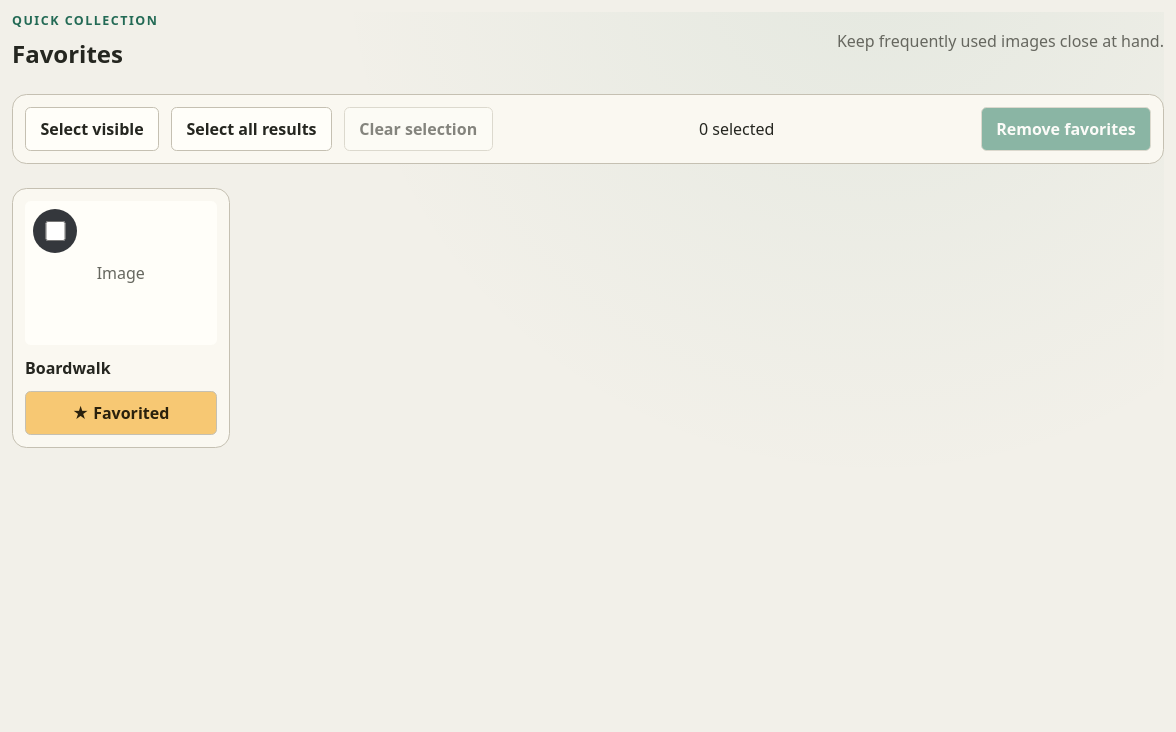
curation favorites › loads every result for select all and reports bulk outcomes per item
Expected: the heading "Boardwalk" is shown, [25,357,111,379]
Click the button "Select all results". click: (252, 129)
box: [171,107,332,151]
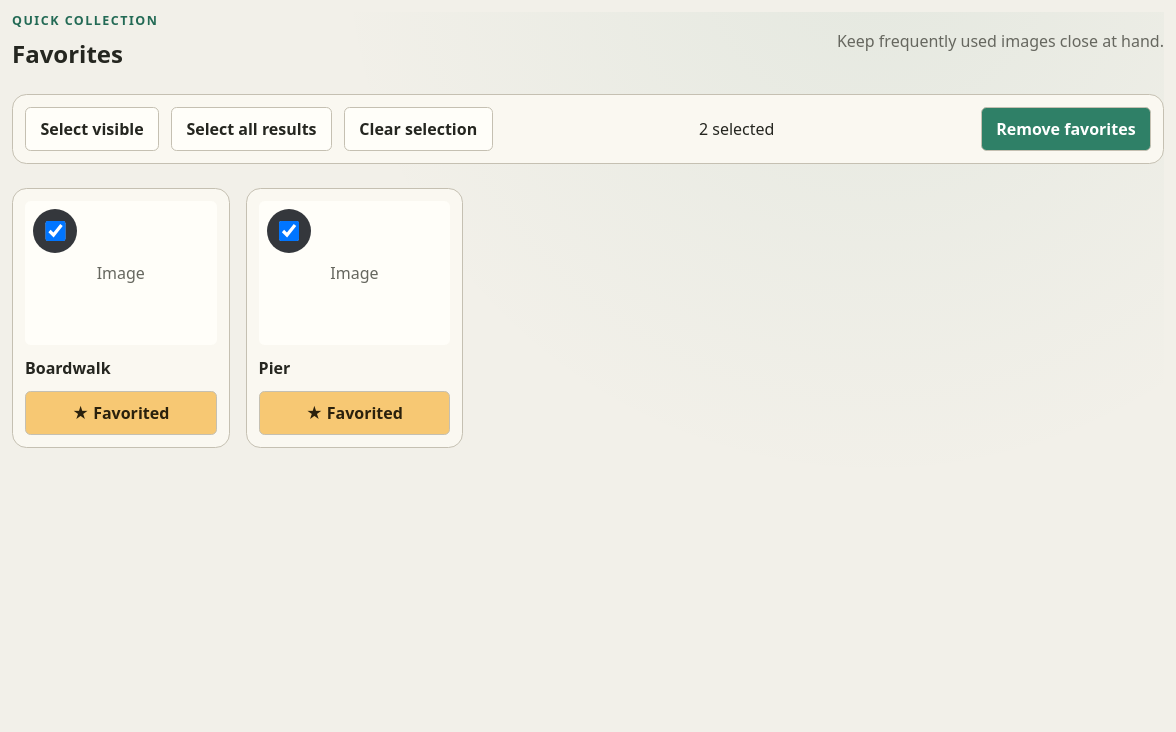
Expected: the text "2 selected" is shown, [699,118,774,140]
Click the button "Remove favorites". click: (1066, 129)
box: [981,107,1151,151]
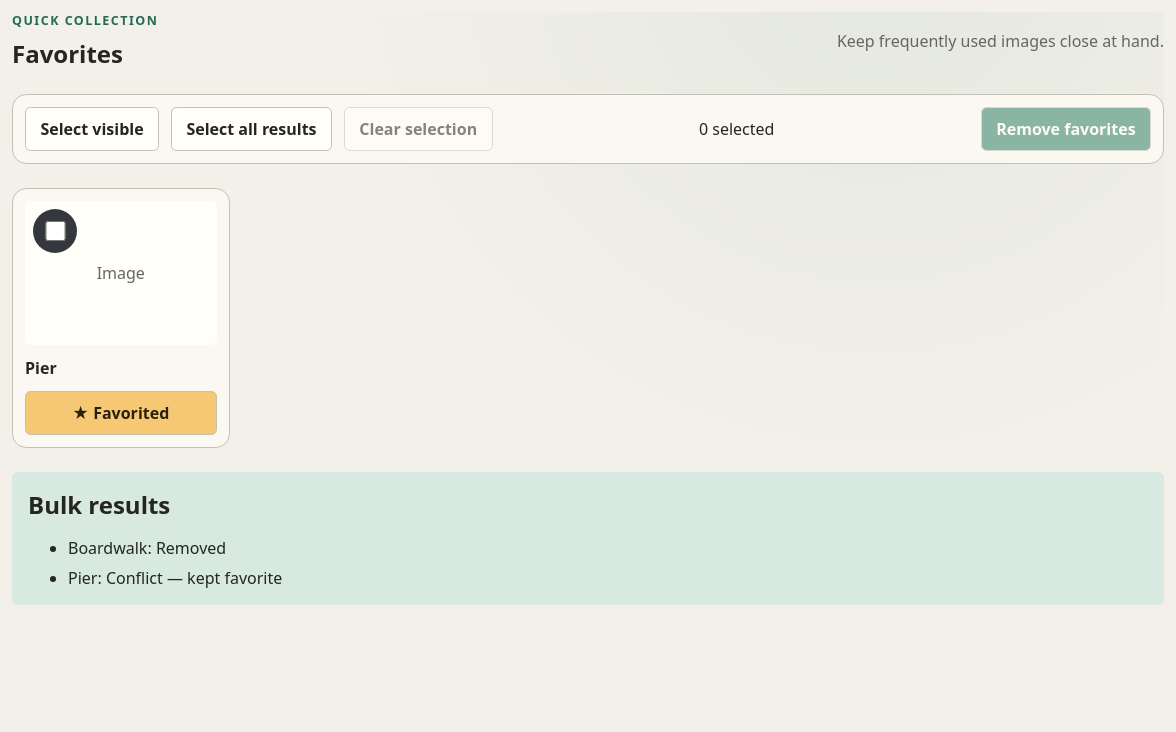
Expected: the list item "Boardwalk: Removed" is shown, [68,537,226,559]
Expected: the list item "Pier: Conflict — kept favorite" is shown, [68,567,282,589]
